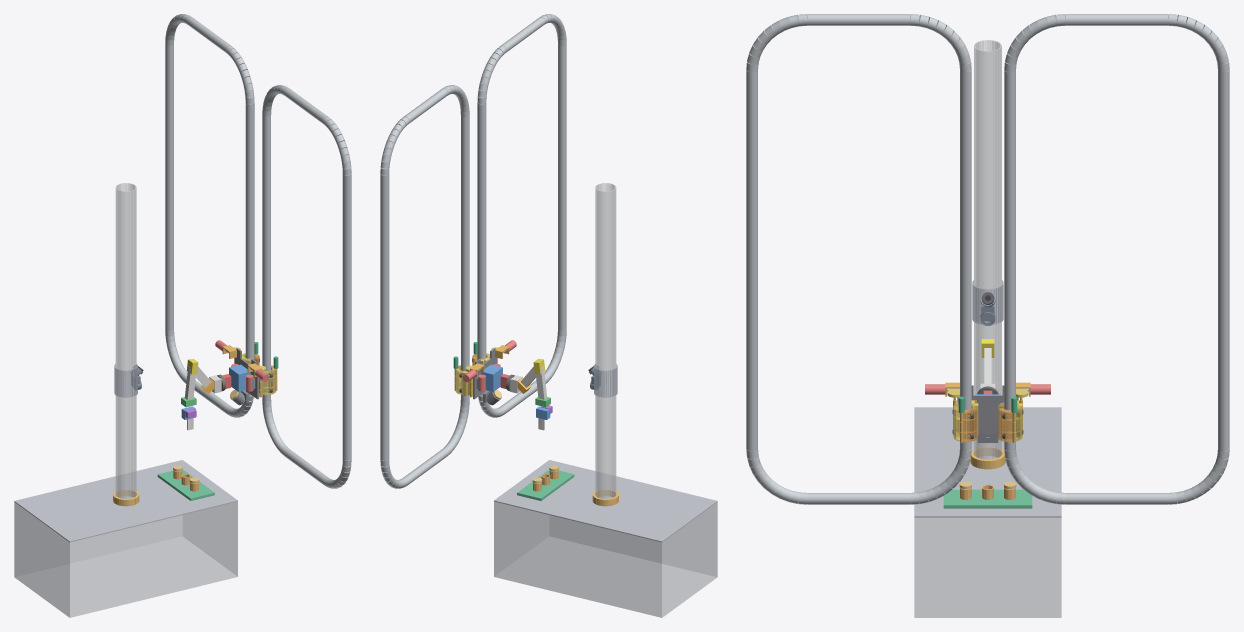
Rendered from transplant-seedling-step1-pick-v4.glb.
The picture shows the model from 3 angles, left to right: view 1: azimuth 30°, elevation 25°; view 2: azimuth 150°, elevation 25°; view 3: azimuth 270°, elevation 25°; orthographic projection. The views are drawn at different scales.
Size of the model in its own units: 0.94 by 1.9 by 1.31.
